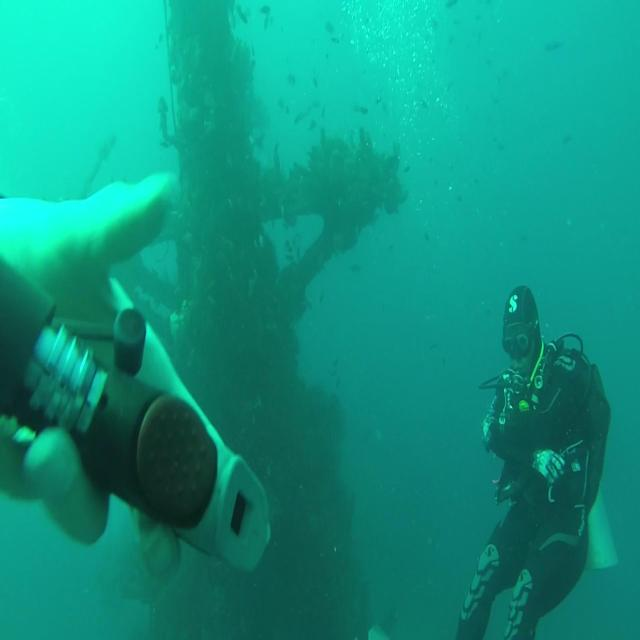human: (0, 169, 271, 580), (454, 283, 613, 638)
